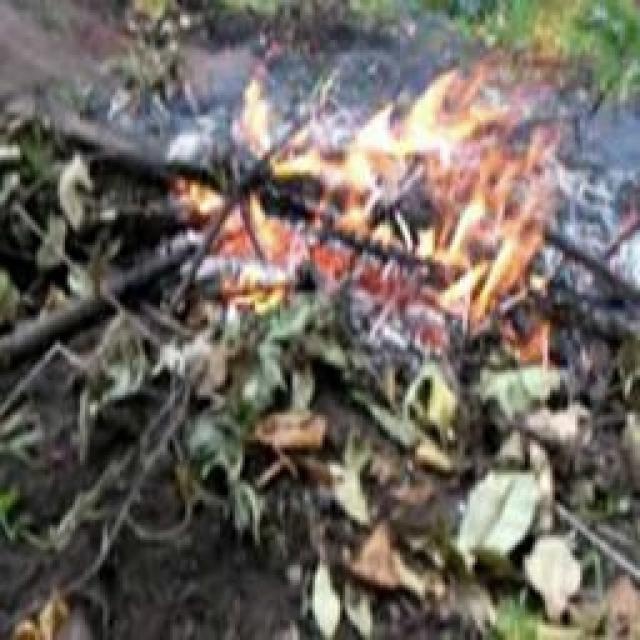Fire: (177, 50, 579, 339)
